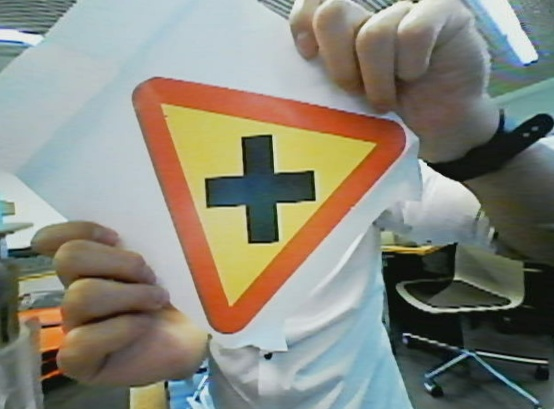junction: (122, 65, 409, 334)
